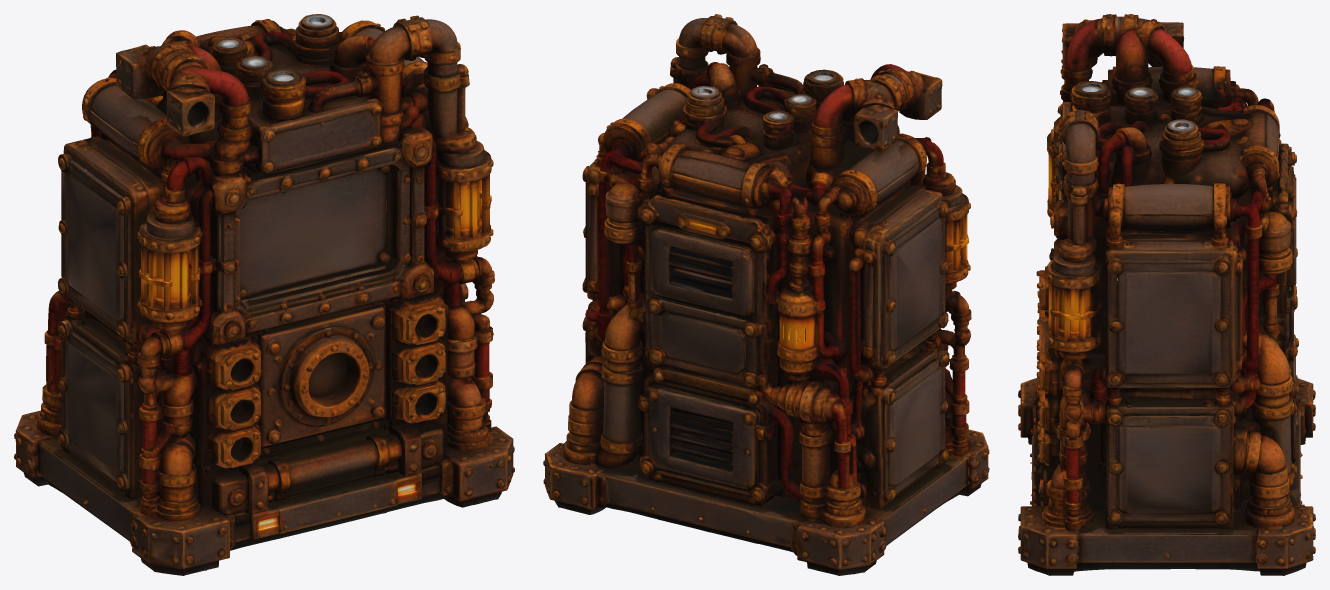
The model's file is computer.glb.
3 renders of one model, left to right at view 1: azimuth 30°, elevation 25°; view 2: azimuth 150°, elevation 25°; view 3: azimuth 270°, elevation 25°, orthographic. The views are drawn at different scales.
Parts seen in each view (by area): view 1: Mesh_0; view 2: Mesh_0; view 3: Mesh_0.
Boxes of the visible parts, <box> form: Mesh_0: <box>14,14,514,575</box>; Mesh_0: <box>543,14,989,575</box>; Mesh_0: <box>1018,14,1315,575</box>.
Size of the model in its own units: 0.7192 by 0.89 by 0.5519.
1 material, 1 textured.
